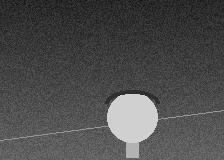no_helmet: (107, 90, 157, 147)
